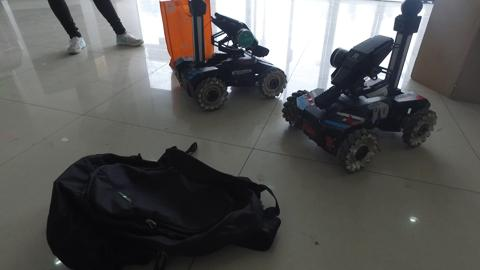bag: (49, 147, 283, 270)
chariot: (279, 1, 441, 175), (170, 1, 288, 110)
